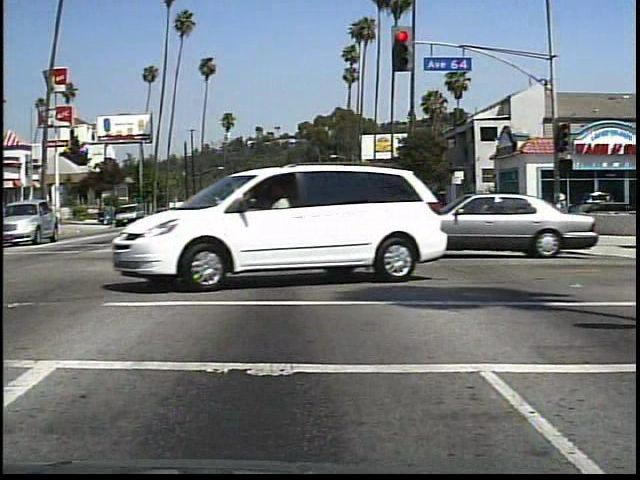person: (548, 187, 575, 238)
